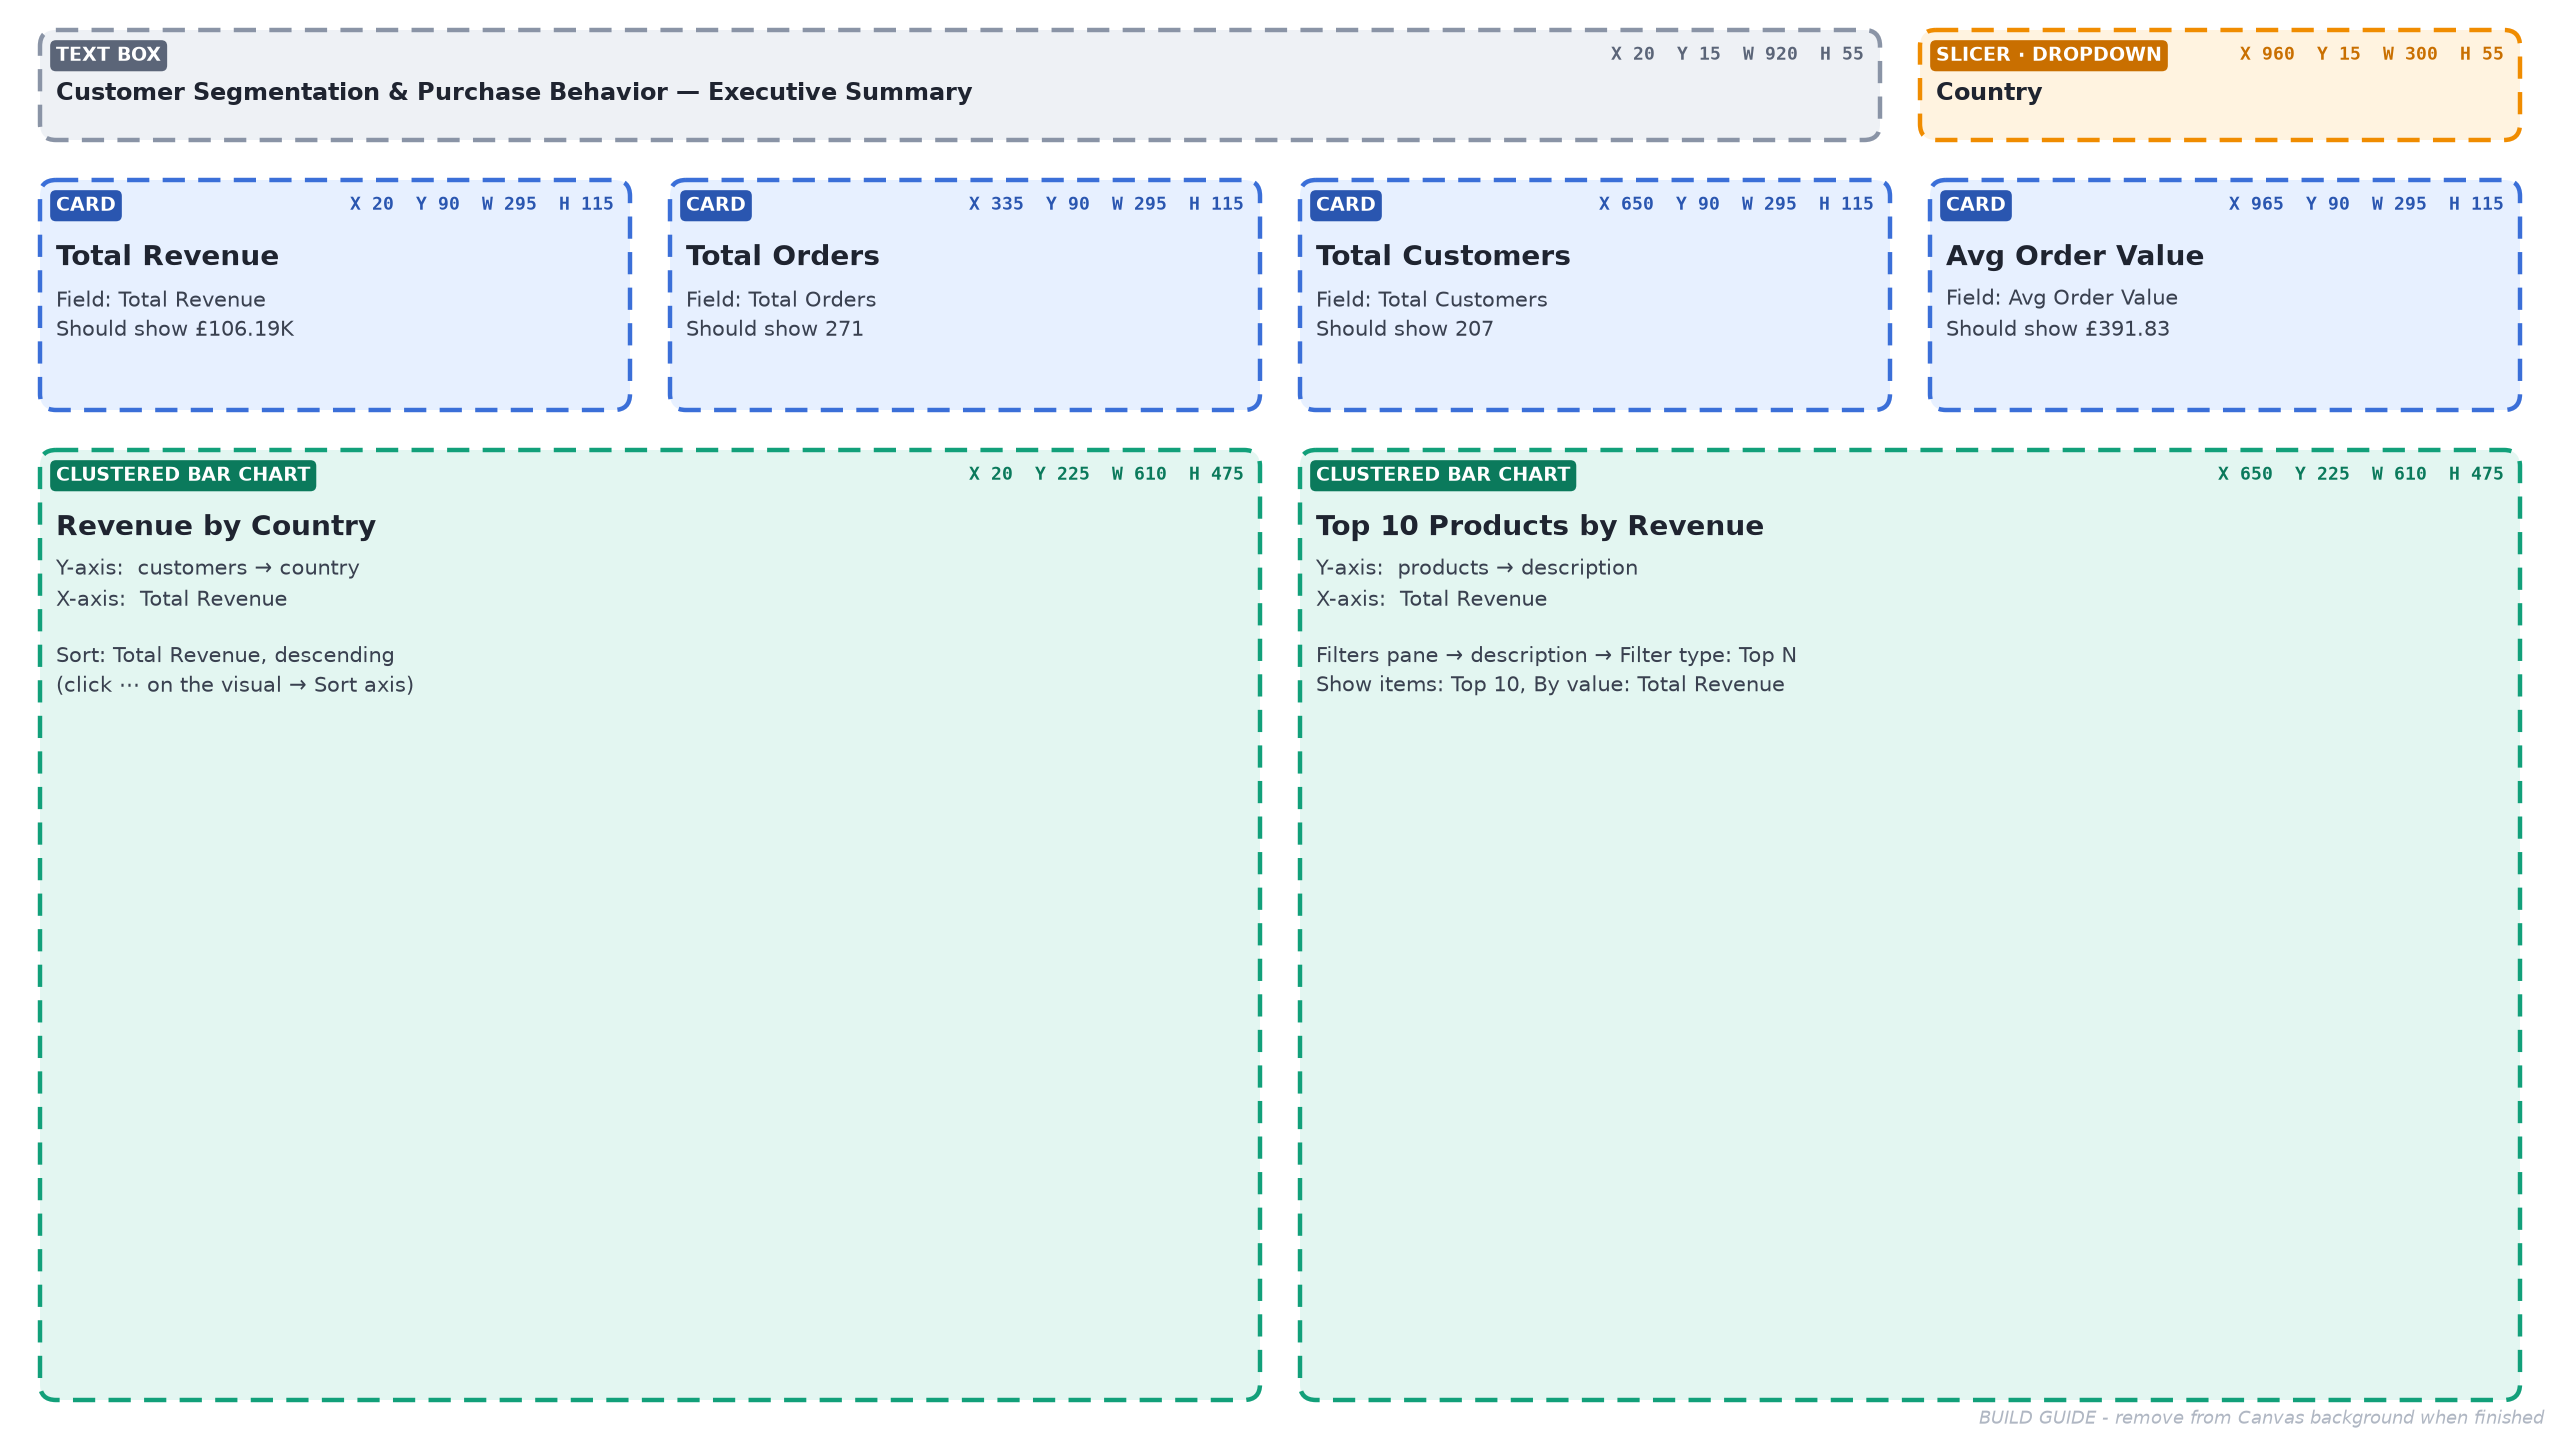

What the dashboard file says about the page in this screenshot:
{"tool":"powerbi","page":{"name":"Page 1 - Executive Summary","canvas":[1280,720],"ordinal":0},"visuals":[{"type":"cardVisual","fields":{"Data":["invoice_items.Total Revenue"]},"box":[20,90,295,115],"z":0},{"type":"cardVisual","fields":{"Data":["invoice_items.Total Orders"]},"box":[334.3,90,295,115],"z":1000},{"type":"cardVisual","fields":{"Data":["invoice_items.Total Customers"]},"box":[650,88.6,295,115],"z":2000},{"type":"cardVisual","fields":{"Data":["invoice_items.Avg Order Value"]},"box":[967.1,90,295,115],"z":3000},{"type":"clusteredBarChart","title":"Revenue by Country","fields":{"Category":["customers.country"],"Y":["invoice_items.Total Revenue"]},"box":[20.7,222.5,608.9,470.9],"z":4000},{"type":"clusteredBarChart","title":"Top 10 Products by Revenue","fields":{"Category":["products.description"],"Y":["invoice_items.Total Revenue"]},"box":[650.4,222.5,612.4,470.9],"z":5000},{"type":"textbox","box":[20,11.7,875,68.3],"z":6000},{"type":"slicer","fields":{"Values":["customers.country"]},"box":[961.7,11.7,300,56.7],"z":7000}]}

Visuals, with their boxes in screenshot pixels (x1, y1, x2, y2), scaled from the page's 1280x720 canvas onto the 2560x1440 screenshot:
cardVisual - invoice_items.Total Revenue: locate(40, 180, 630, 410)
cardVisual - invoice_items.Total Orders: locate(669, 180, 1259, 410)
cardVisual - invoice_items.Total Customers: locate(1300, 177, 1890, 407)
cardVisual - invoice_items.Avg Order Value: locate(1934, 180, 2524, 410)
"Revenue by Country" clusteredBarChart: locate(41, 445, 1259, 1387)
"Top 10 Products by Revenue" clusteredBarChart: locate(1301, 445, 2526, 1387)
textbox: locate(40, 23, 1790, 160)
slicer - customers.country: locate(1923, 23, 2523, 137)
